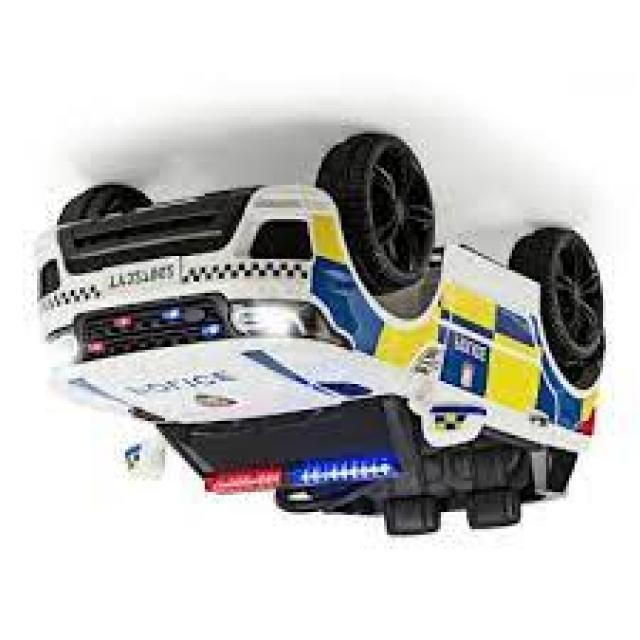Car: (31, 133, 606, 538)
